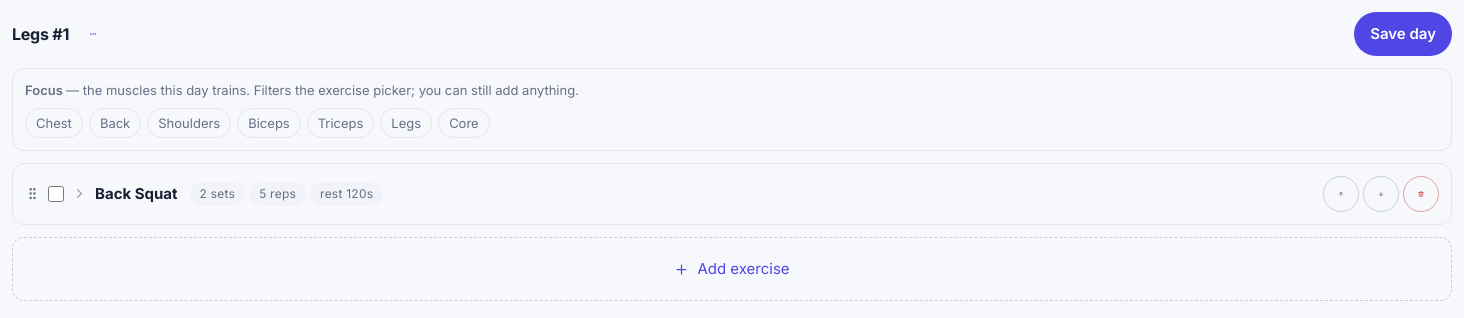
DayEditor › renames the day from the ⋯ menu and saves the new name
The image size is (1464, 318).
Expected: the text "Back Squat" is shown, left=95, top=183, right=178, bottom=205
Step 1. Click the button named "Day options" → x=93, y=34, box left=75, top=16, right=111, bottom=52
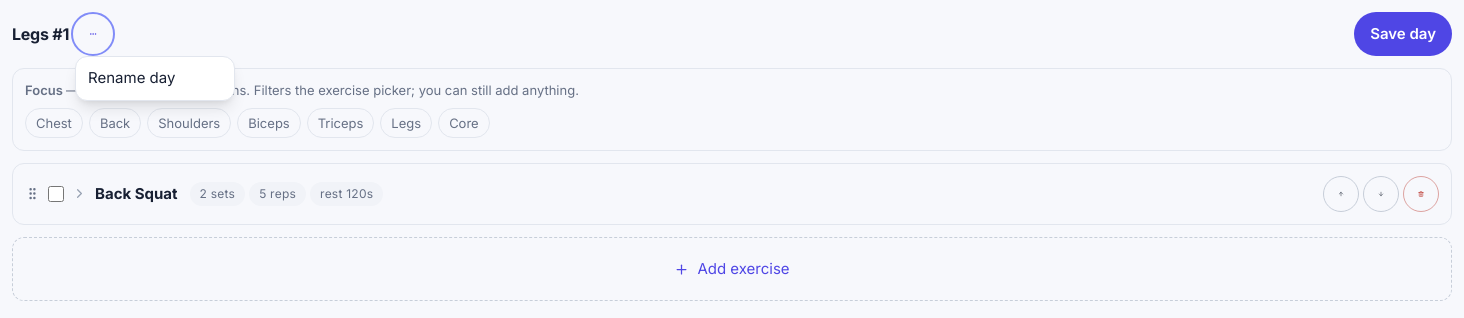
Step 2. Click the button "Rename day" → x=155, y=78, box left=80, top=61, right=230, bottom=96
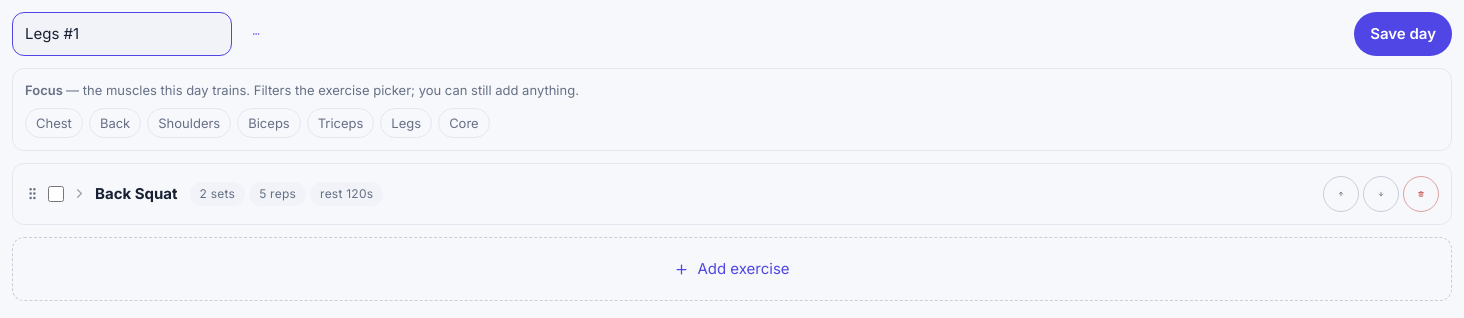
Step 3. Replace the text in the field named "Day name" with "Leg Day A" → x=122, y=34, box left=12, top=12, right=232, bottom=56
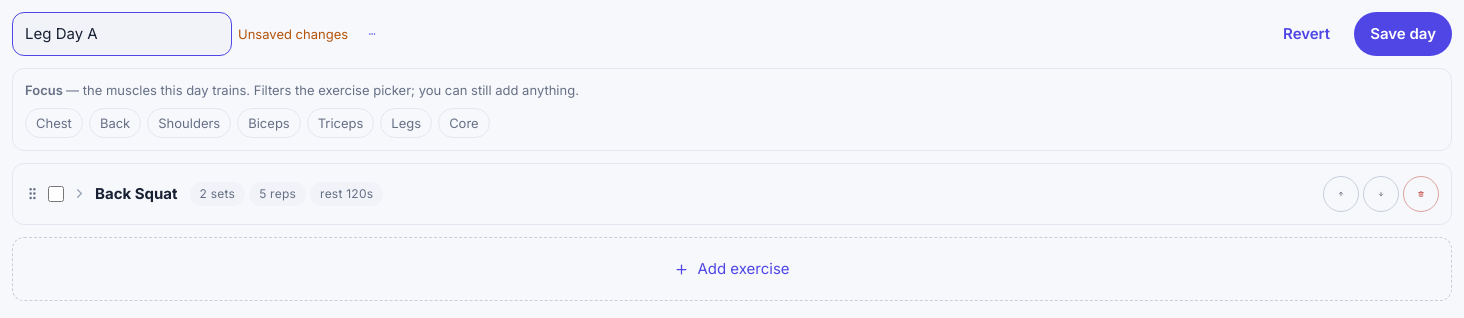
Expected: the text "Unsaved changes" is shown, left=238, top=25, right=348, bottom=43
Step 4. Click the button "Save day" → x=1403, y=34, box left=1354, top=12, right=1452, bottom=56
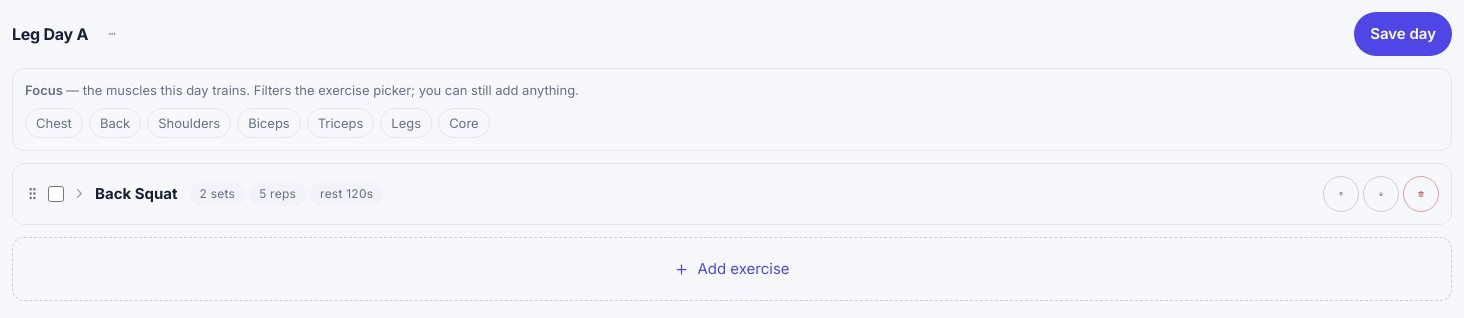
Expected: the heading "Leg Day A" is shown, left=12, top=22, right=88, bottom=46
